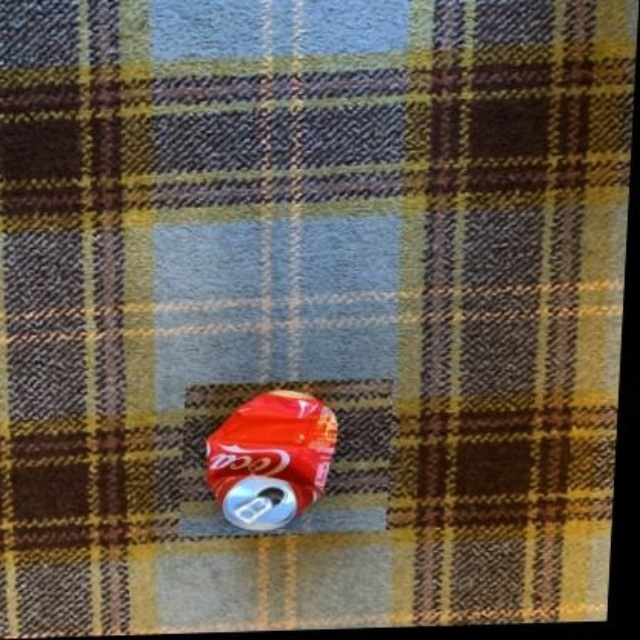trash: (206, 389, 335, 529)
